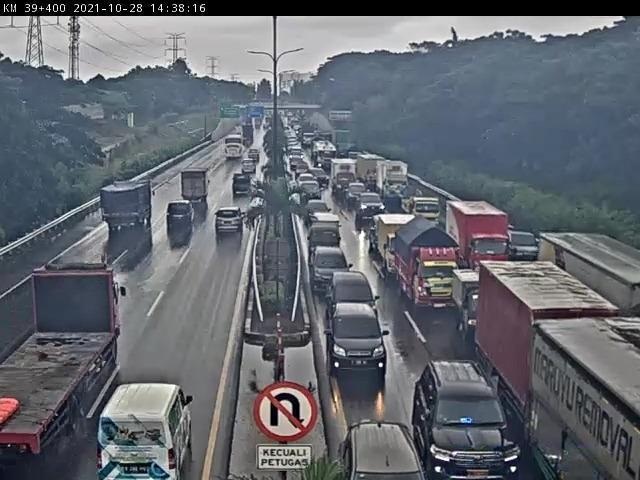Bus: (224, 133, 243, 159)
